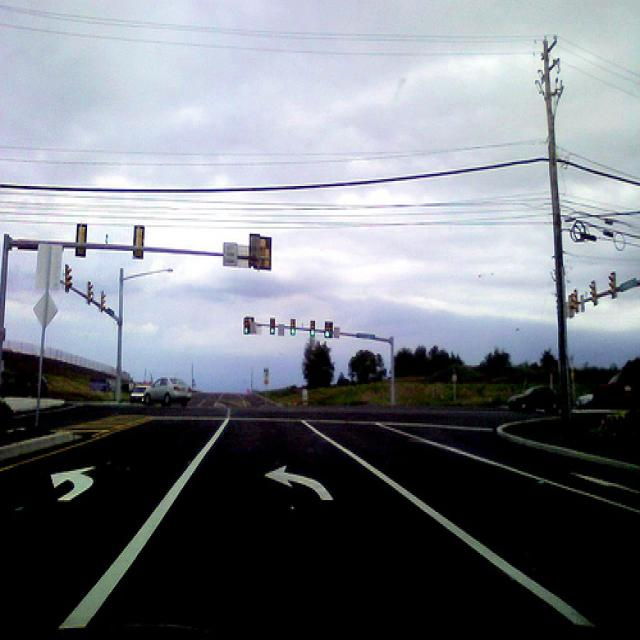Vehicle: (589, 355, 640, 414), (508, 387, 566, 412), (143, 376, 191, 406), (129, 385, 151, 403)
